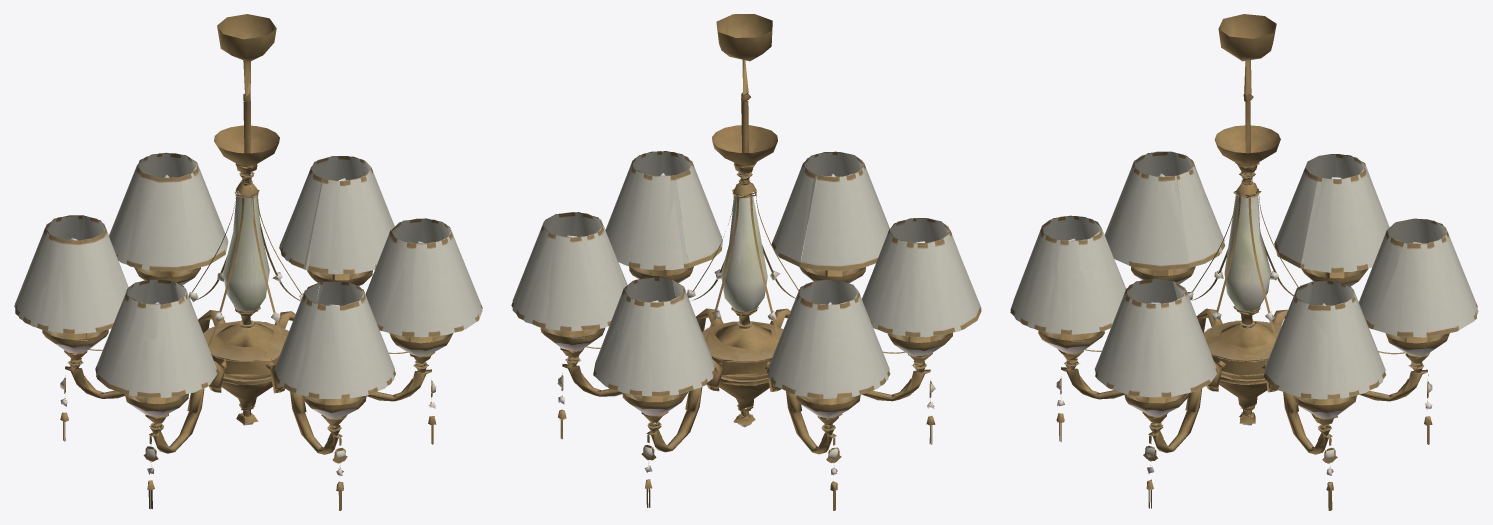
File: Chandelier_01.glb
The picture shows the model from 3 angles, left to right: view 1: azimuth 30°, elevation 25°; view 2: azimuth 150°, elevation 25°; view 3: azimuth 270°, elevation 25°; orthographic projection.
Visible parts, largest first — view 1: Chandelier_01; view 2: Chandelier_01; view 3: Chandelier_01.
Boxes of the visible parts, <box> form: Chandelier_01: <box>14,14,482,510</box>; Chandelier_01: <box>511,14,981,510</box>; Chandelier_01: <box>1010,14,1478,510</box>.
Bounding box in the file's own units: 0.7463 × 0.7983 × 0.816.
Materials: 2 (1 with a texture image).
